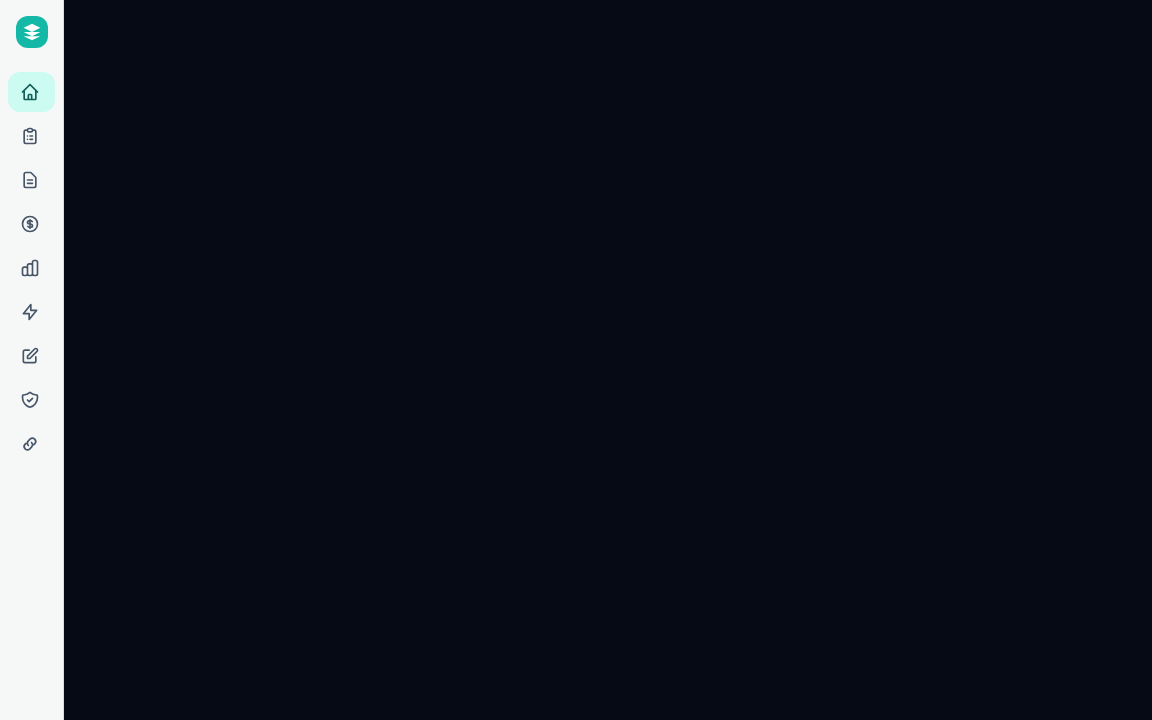
Test: App startup recovery › opens the documented Search Links page from navigation
The width and height of the screenshot is (1152, 720).
Click the button named "Search Links (Cmd/Ctrl+9)": click(32, 444) [8, 424, 55, 464]
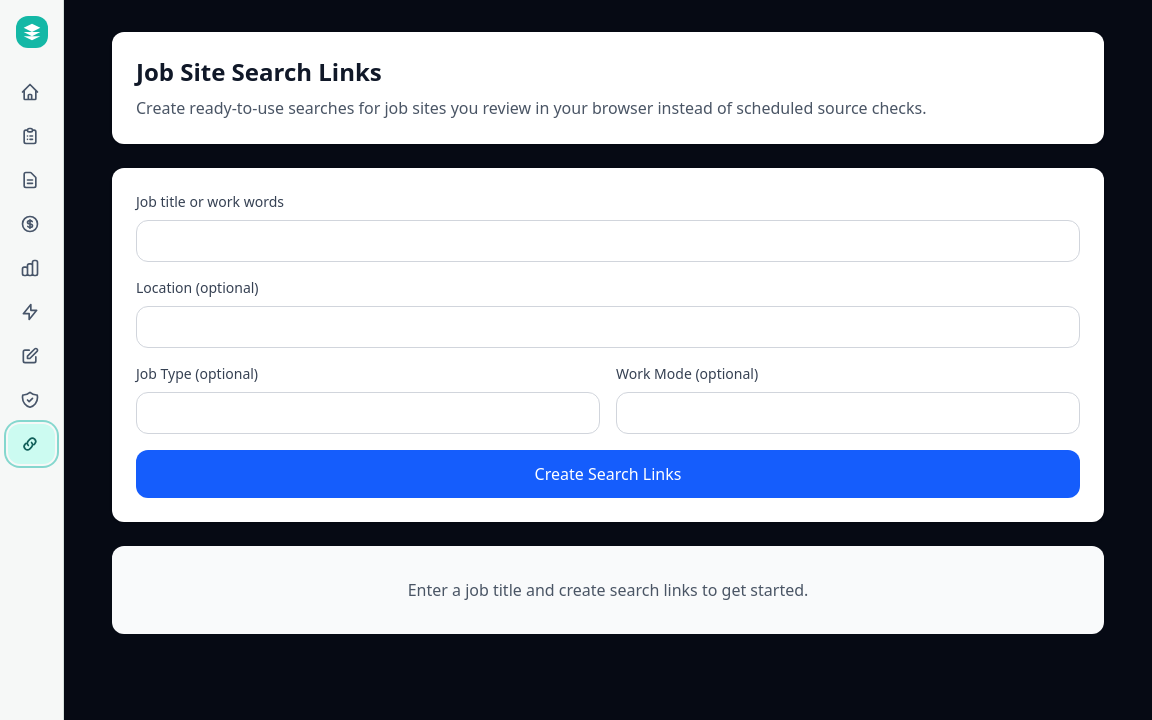
Check: the heading "Job Site Search Links" is shown, box [136, 55, 382, 88]
